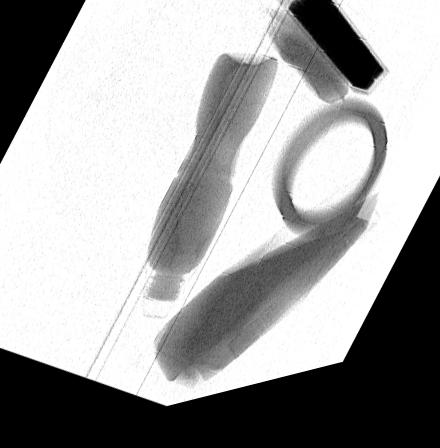Powerbank: (269, 0, 392, 116)
